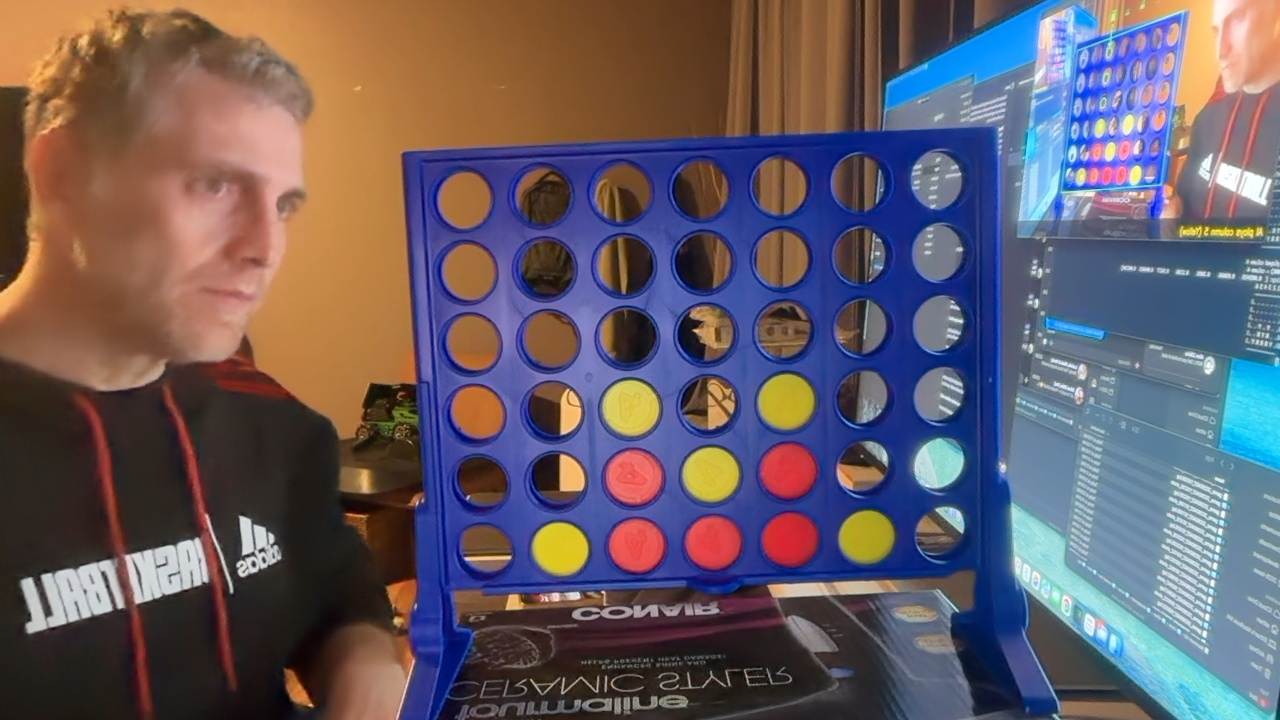red piece: (604, 449, 663, 506), (759, 442, 818, 499), (684, 515, 742, 571), (761, 512, 818, 568), (608, 518, 666, 573)
yellow piece: (601, 379, 660, 437), (681, 446, 741, 503), (757, 372, 815, 430), (531, 521, 589, 576), (838, 510, 895, 565)
